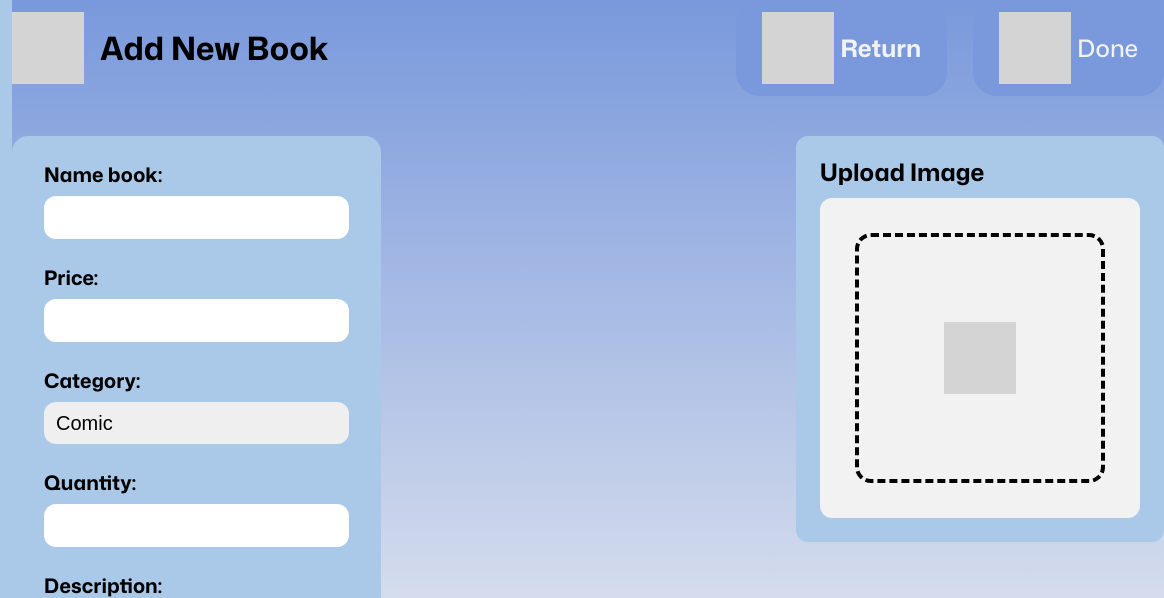
Test: Test CreateBook component › Hien thi loi khi nhap ten sach rong
Type "a" into the field with test id "input-name" at (196, 218), box [44,196,349,239]
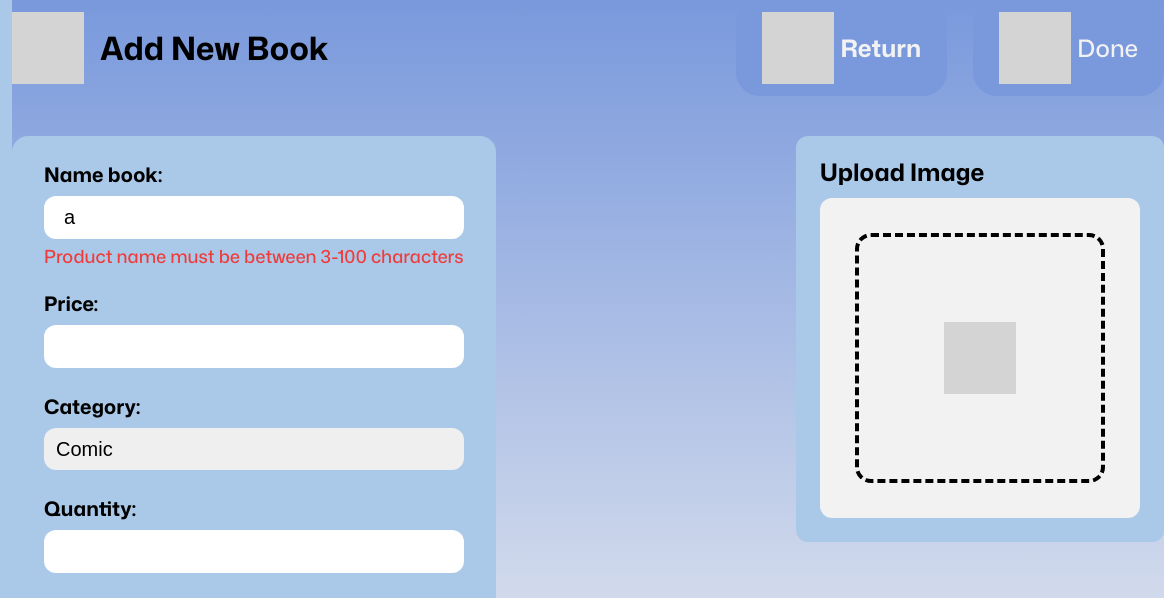
Clear the field with test id "input-name" at (254, 218), box [44,196,464,239]
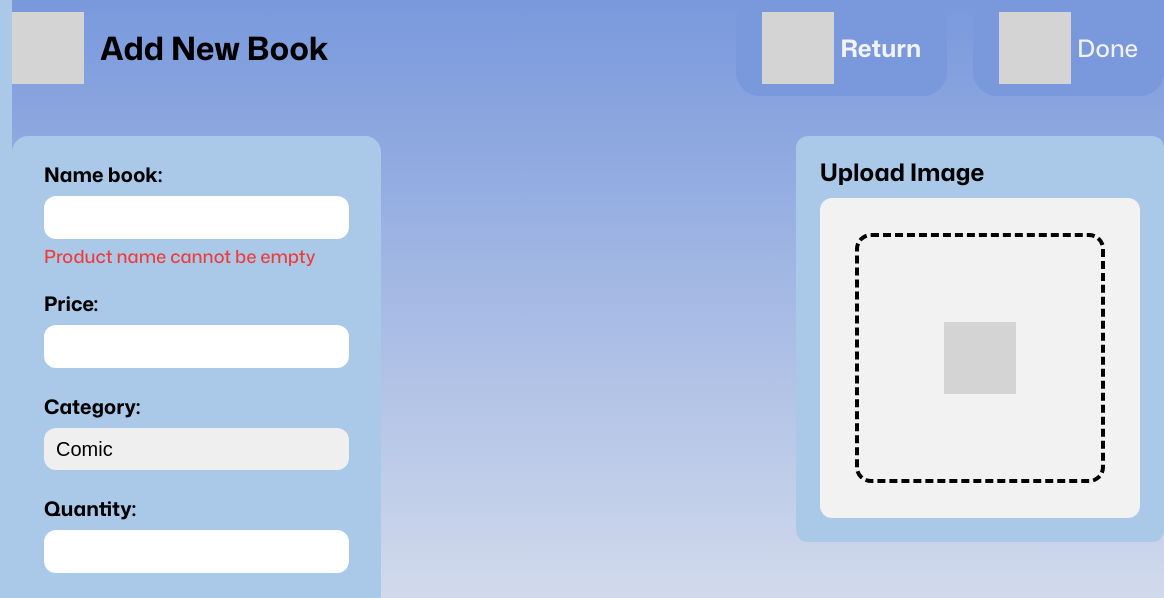
Check: the text "Product name cannot be empty" is shown, box [44,247,315,265]
